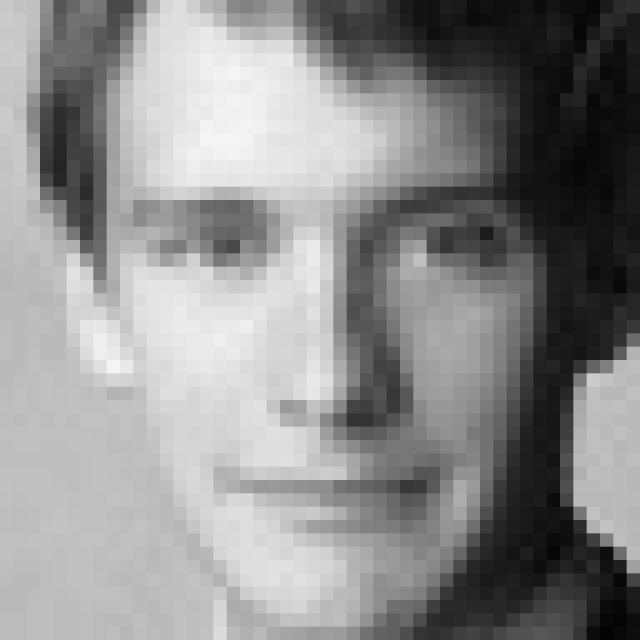neutral: (114, 174, 516, 540)
